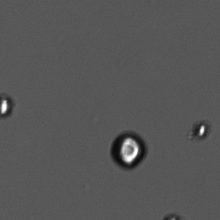Living Cell: (108, 130, 149, 170), (1, 93, 14, 120), (192, 120, 209, 140)
